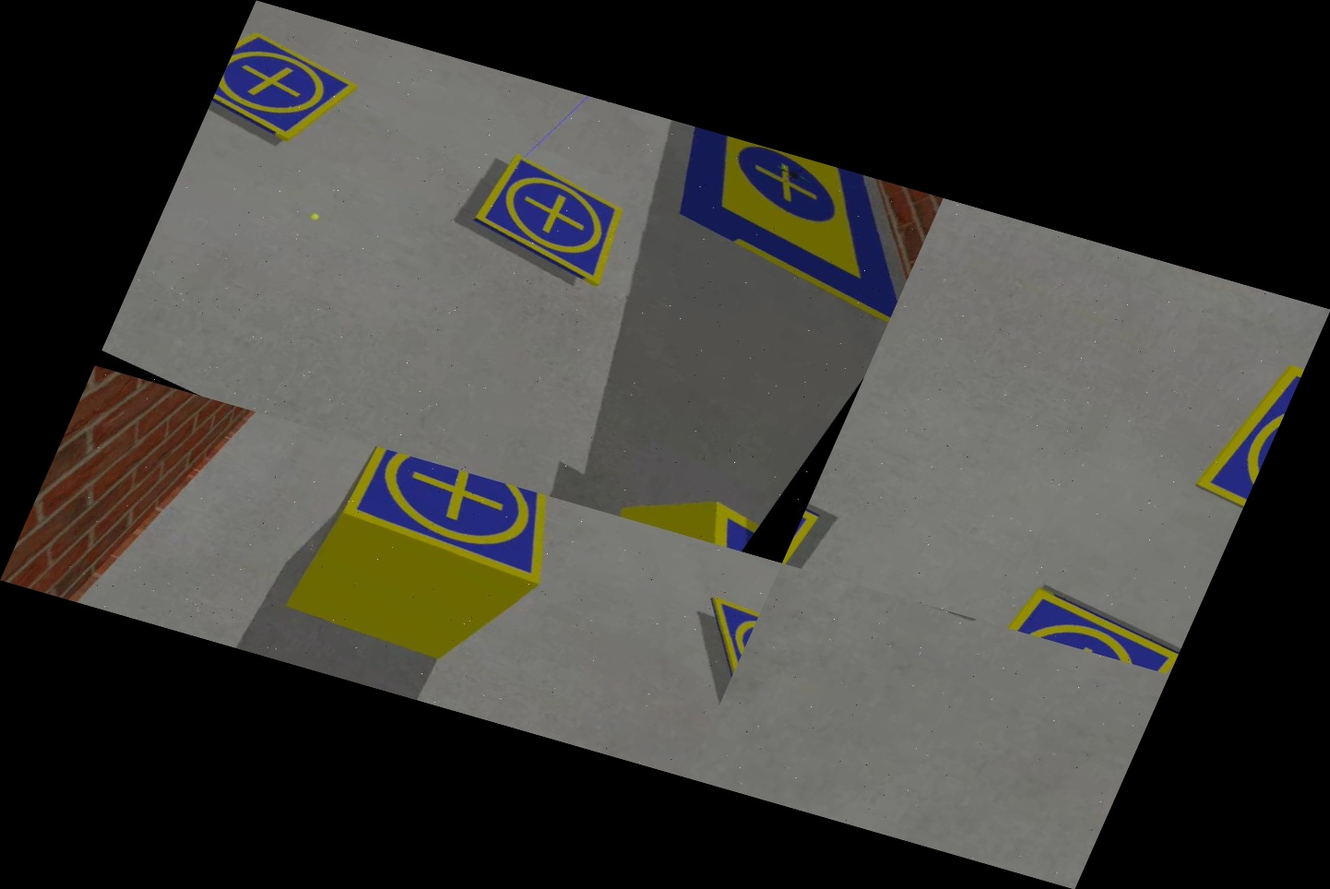large_base: (601, 115, 943, 324)
small_base: (315, 441, 595, 607), (450, 145, 659, 294), (199, 22, 371, 163), (1177, 347, 1306, 528), (985, 575, 1190, 674), (654, 581, 766, 708)
